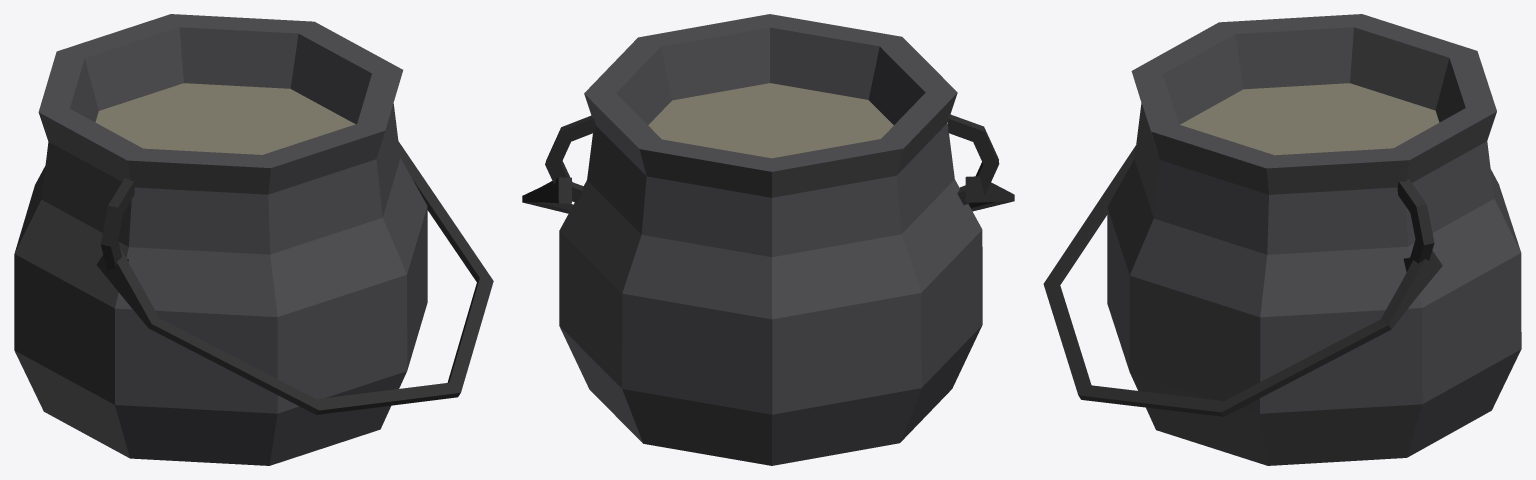
Rendered from Pot.glb.
The picture shows the model from 3 angles, left to right: view 1: azimuth 30°, elevation 25°; view 2: azimuth 150°, elevation 25°; view 3: azimuth 270°, elevation 25°; orthographic projection.
Parts seen in each view (by area): view 1: Pot; view 2: Pot; view 3: Pot.
Boxes of the visible parts, x1,y1,x2,y2 form: Pot: (14,14,493,465); Pot: (522,14,1014,465); Pot: (1043,14,1521,465).
Size of what is drawn, in the model's own units: 0.585 by 0.4134 by 0.5975.
1 material, 1 textured.
